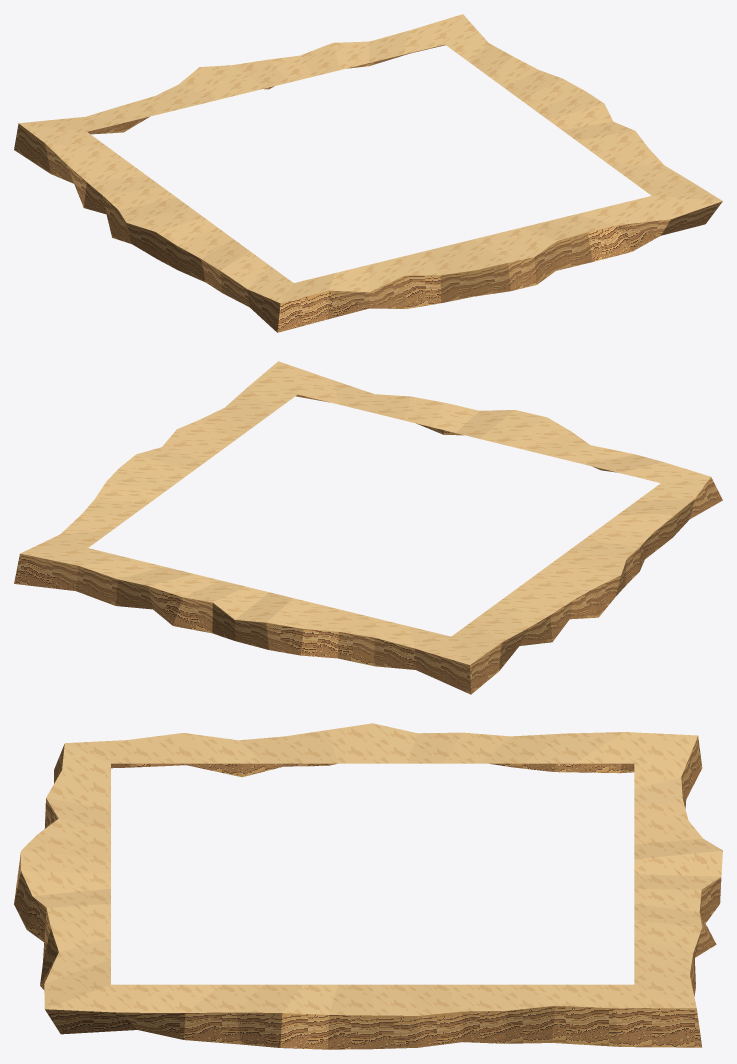
The model's file is entorno.fbx.
3 views of the same model, one above another, from view 1: azimuth 30°, elevation 25°; view 2: azimuth 150°, elevation 25°; view 3: azimuth 270°, elevation 25° (orthographic). The views are drawn at different scales.
Parts seen in each view (by area): view 1: deserto_entorno; view 2: deserto_entorno; view 3: deserto_entorno.
Boxes of the visible parts, x1,y1,x2,y2 form: deserto_entorno: [14, 14, 722, 332]; deserto_entorno: [14, 361, 722, 694]; deserto_entorno: [14, 723, 722, 1049].
Size of the model in its own units: 1631 by 106 by 1652.
Materials: 2 (2 with a texture image).
